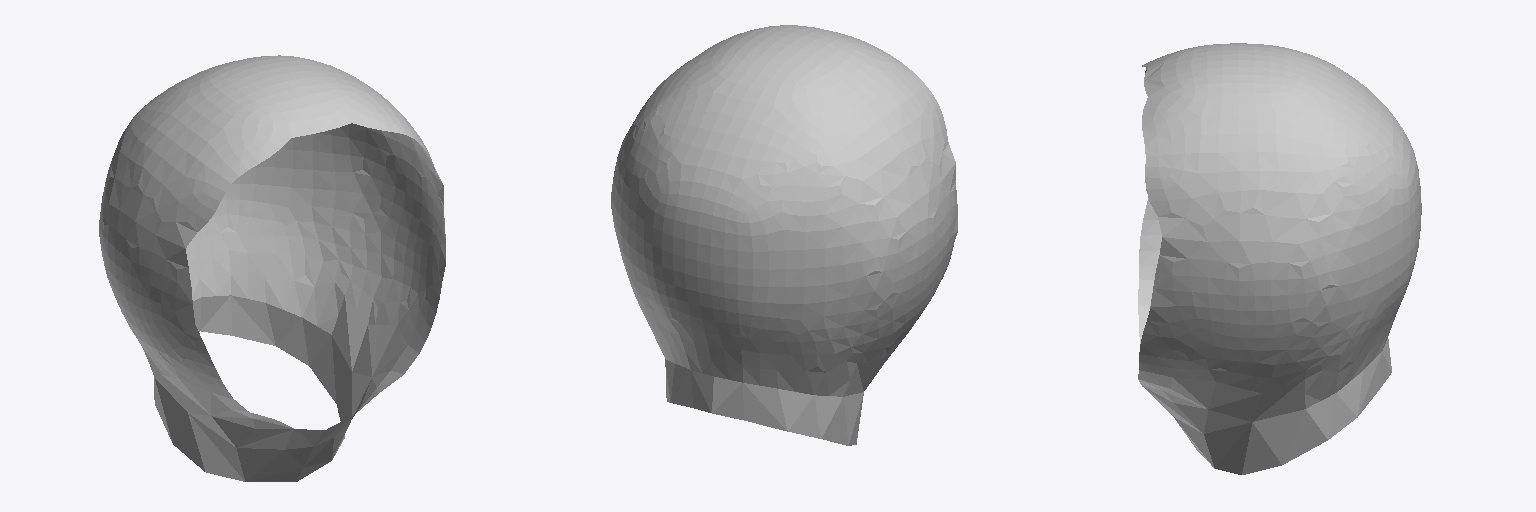
File: head.obj
3 views of the same model, side by side, from view 1: azimuth 30°, elevation 25°; view 2: azimuth 150°, elevation 25°; view 3: azimuth 270°, elevation 25° (orthographic).
Visible parts, largest first — view 1: Head; view 2: Head; view 3: Head.
Boxes of the visible parts, box(x1,y1,x2,y2) form: Head: box(99, 55, 445, 481); Head: box(611, 25, 957, 445); Head: box(1138, 43, 1421, 474).
Bounding box in the file's own units: 0.5317 × 0.6806 × 0.4462.